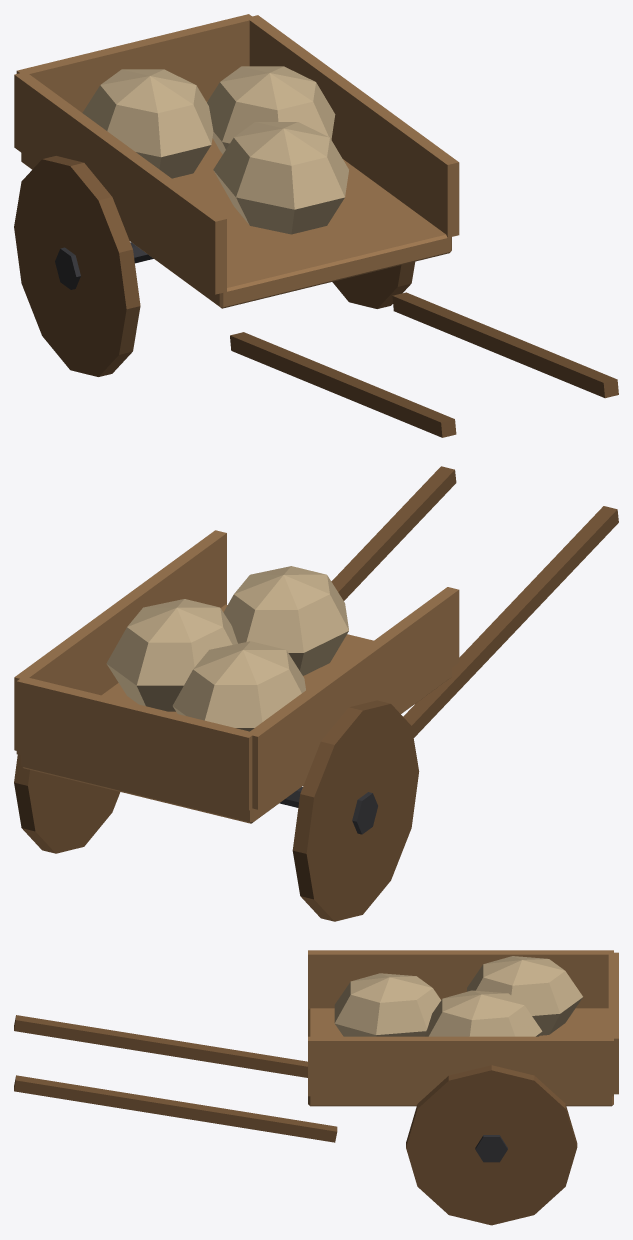
The model's file is hand_cart.glb.
3 renders of one model, top to bottom at view 1: azimuth 30°, elevation 25°; view 2: azimuth 150°, elevation 25°; view 3: azimuth 270°, elevation 25°, orthographic. The views are drawn at different scales.
Visible parts, largest first — view 1: hand_cart; view 2: hand_cart; view 3: hand_cart.
Part boxes in pixels (bbox=[...]): hand_cart: bbox=[14, 14, 618, 437]; hand_cart: bbox=[14, 466, 618, 921]; hand_cart: bbox=[14, 950, 618, 1225].
Bounding box in the file's own units: 1.3 × 1.05 × 2.97.
